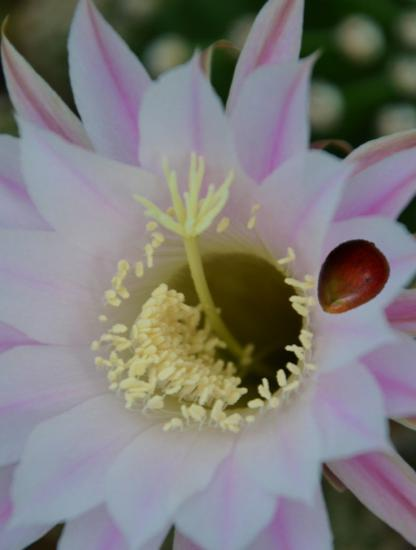Mango: (308, 236, 394, 322)
